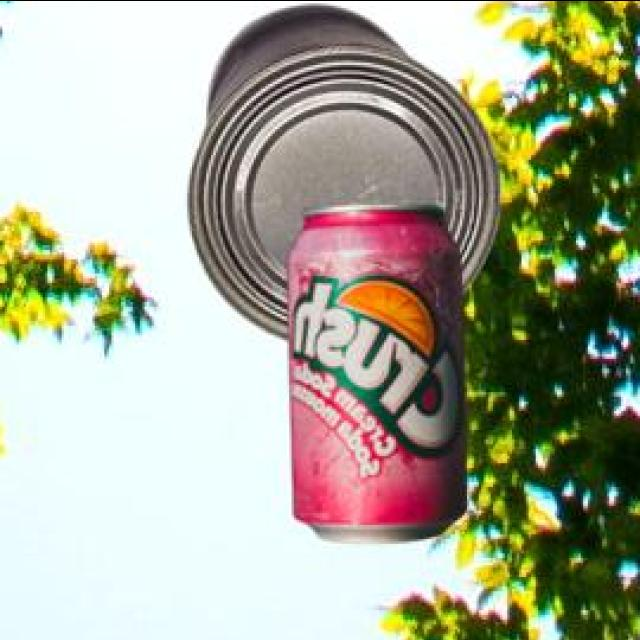logam: (191, 8, 504, 343), (290, 207, 471, 546)
